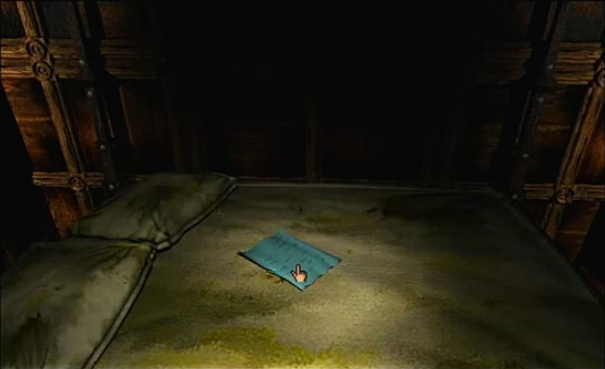Pointer: (287, 261, 312, 286)
